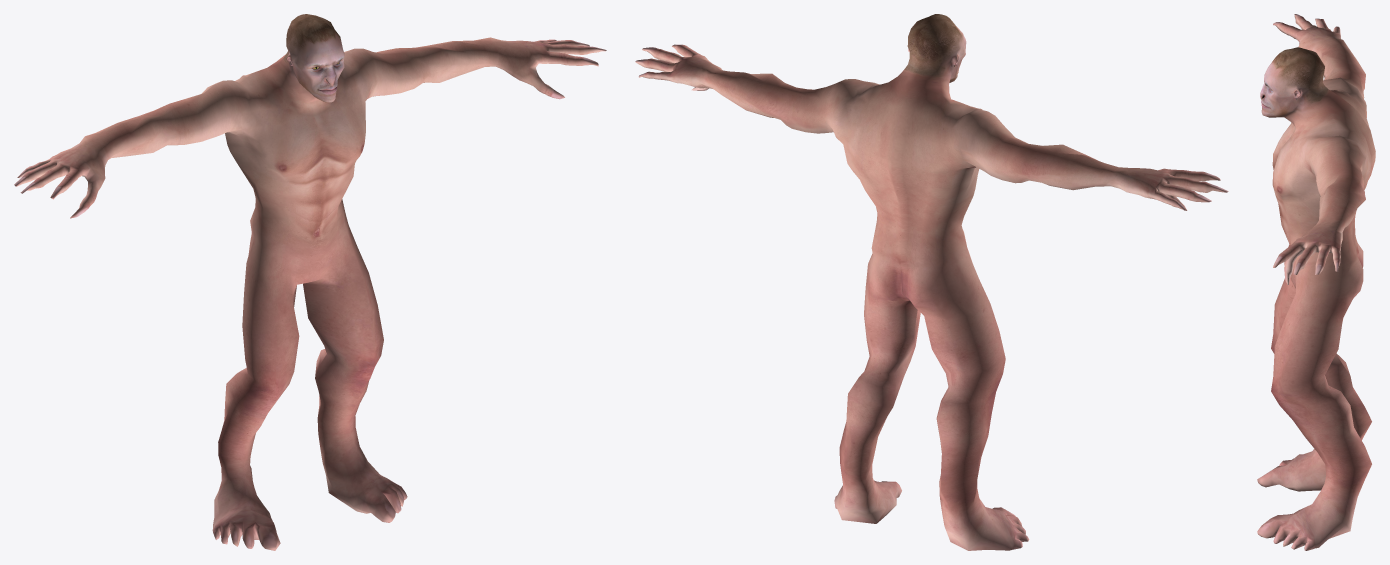
Rendered from Giant.obj.
3 renders of one model, left to right at view 1: azimuth 30°, elevation 25°; view 2: azimuth 150°, elevation 25°; view 3: azimuth 270°, elevation 25°, orthographic. The views are drawn at different scales.
Parts seen in each view (by area): view 1: H_DDS_LowRes; view 2: H_DDS_LowRes; view 3: H_DDS_LowRes.
Boxes of the visible parts, bbox=[...] form: H_DDS_LowRes: bbox=[14, 14, 606, 550]; H_DDS_LowRes: bbox=[635, 14, 1228, 550]; H_DDS_LowRes: bbox=[1257, 14, 1375, 550].
Bounding box in the file's own units: 363 × 300 × 69.89.
